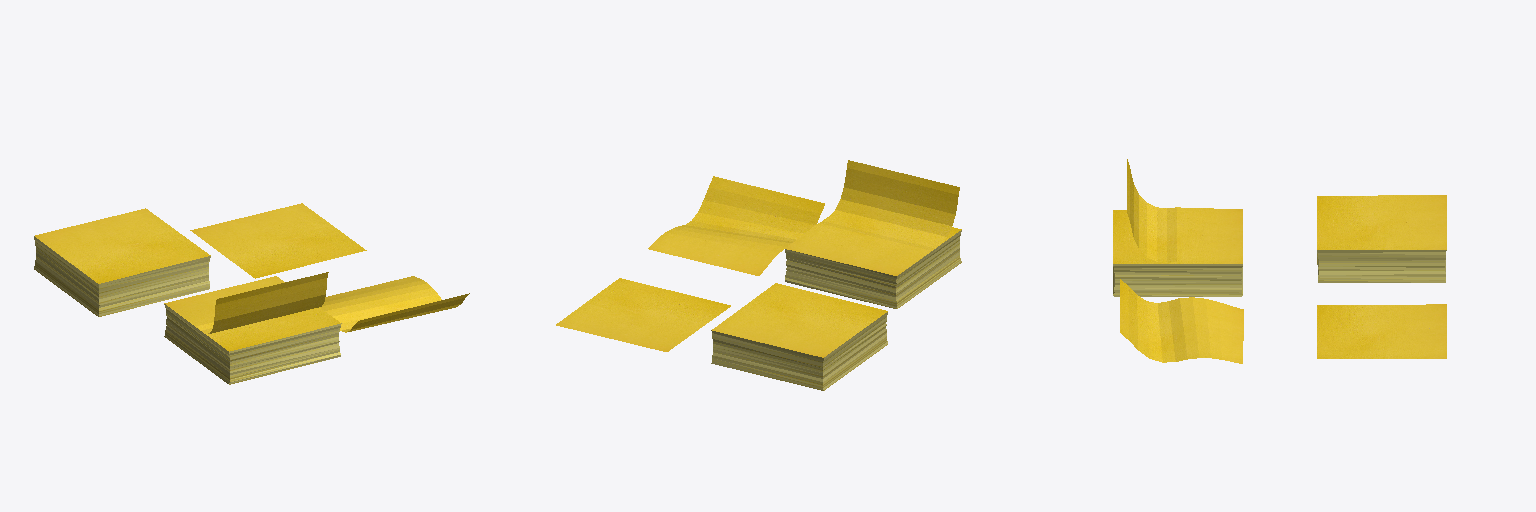
3 renders of one model, left to right at view 1: azimuth 30°, elevation 25°; view 2: azimuth 150°, elevation 25°; view 3: azimuth 270°, elevation 25°, orthographic.
Visible parts, largest first — view 1: SINGLE_Cube.004, STACK2_Cube, single_Cube.005, FRONT_CURVED_Cube.001, single_curved_Cube.003; view 2: SINGLE_Cube.004, FRONT_CURVED_Cube.001, single_curved_Cube.003, single_Cube.005, STACK2_Cube; view 3: SINGLE_Cube.004, single_curved_Cube.003, single_Cube.005, FRONT_CURVED_Cube.001, STACK2_Cube.
Boxes of the visible parts, x1=… form: SINGLE_Cube.004: x1=34, y1=208, x2=210, y2=316; STACK2_Cube: x1=164, y1=276, x2=341, y2=384; single_Cube.005: x1=190, y1=203, x2=366, y2=278; FRONT_CURVED_Cube.001: x1=165, y1=272, x2=328, y2=333; single_curved_Cube.003: x1=320, y1=276, x2=469, y2=332; SINGLE_Cube.004: x1=711, y1=283, x2=887, y2=390; FRONT_CURVED_Cube.001: x1=788, y1=160, x2=959, y2=275; single_curved_Cube.003: x1=648, y1=176, x2=824, y2=275; single_Cube.005: x1=556, y1=278, x2=730, y2=351; STACK2_Cube: x1=785, y1=215, x2=961, y2=308; SINGLE_Cube.004: x1=1317, y1=195, x2=1446, y2=282; single_curved_Cube.003: x1=1120, y1=279, x2=1243, y2=363; single_Cube.005: x1=1317, y1=304, x2=1446, y2=358; FRONT_CURVED_Cube.001: x1=1127, y1=159, x2=1242, y2=263; STACK2_Cube: x1=1113, y1=210, x2=1242, y2=296.
Bounding box in the file's own units: 4.96 × 1.4 × 5.16.
3 materials, 1 textured.